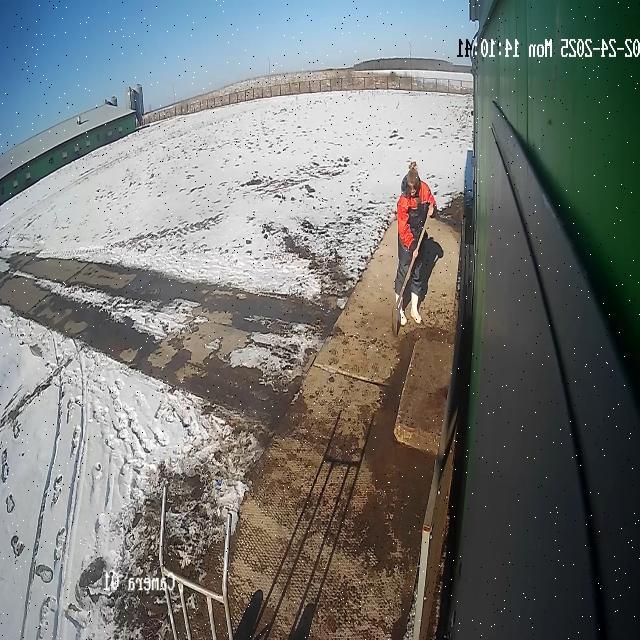Red uniform: (392, 163, 442, 329)
